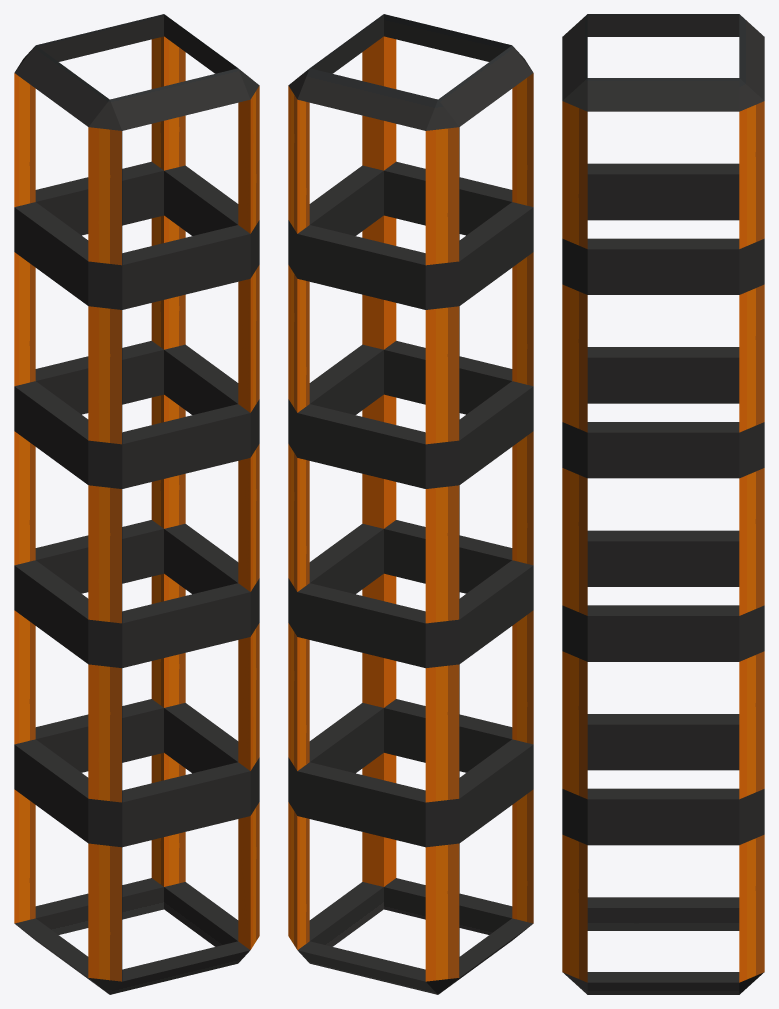
File: PatternB.FBX
3 views of the same model, side by side, from view 1: azimuth 30°, elevation 25°; view 2: azimuth 150°, elevation 25°; view 3: azimuth 270°, elevation 25° (orthographic). The views are drawn at different scales.
Visible parts, largest first — view 1: PatternB; view 2: PatternB; view 3: PatternB.
Boxes of the visible parts, x1,y1,x2,y2 form: PatternB: [14, 14, 259, 994]; PatternB: [288, 14, 533, 994]; PatternB: [562, 14, 764, 994].
Bounding box in the file's own units: 20 × 20 × 100.
1 material, 1 textured.
